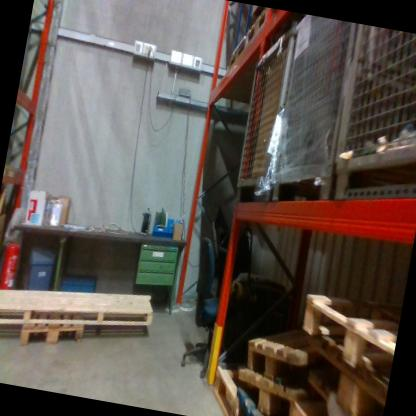pallet: (0, 264, 158, 364), (286, 280, 403, 400), (290, 328, 394, 416), (243, 303, 323, 396), (201, 350, 282, 416), (225, 359, 313, 416), (11, 299, 96, 357), (287, 377, 366, 416), (222, 28, 273, 80), (243, 7, 280, 50), (282, 400, 327, 416)
stillage: (264, 15, 357, 208), (326, 27, 416, 212), (230, 14, 298, 203)
